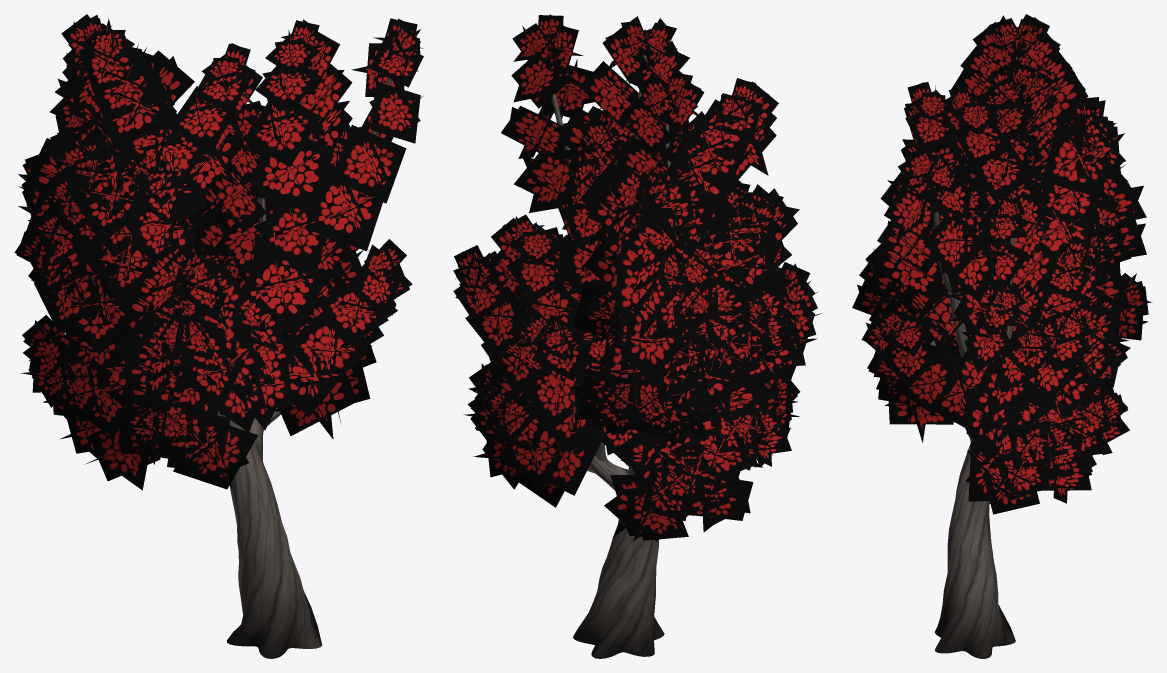
The model's file is twistedtree_2.gltf.
3 renders of one model, left to right at view 1: azimuth 30°, elevation 25°; view 2: azimuth 150°, elevation 25°; view 3: azimuth 270°, elevation 25°, orthographic. The views are drawn at different scales.
Parts seen in each view (by area): view 1: TwistedTree_2; view 2: TwistedTree_2; view 3: TwistedTree_2.
Boxes of the visible parts, bbox=[...] form: TwistedTree_2: bbox=[14, 14, 423, 658]; TwistedTree_2: bbox=[453, 14, 821, 658]; TwistedTree_2: bbox=[852, 14, 1152, 658].
Bounding box in the file's own units: 10.56 × 18.95 × 9.2.
2 materials, 2 textured.
